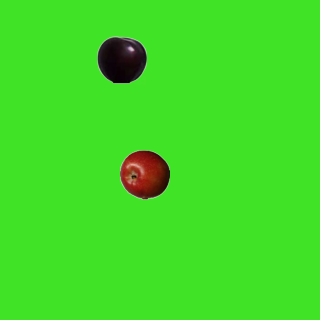Apple Braeburn: (119, 149, 169, 199)
Cherry Wax Black: (96, 34, 146, 84)
